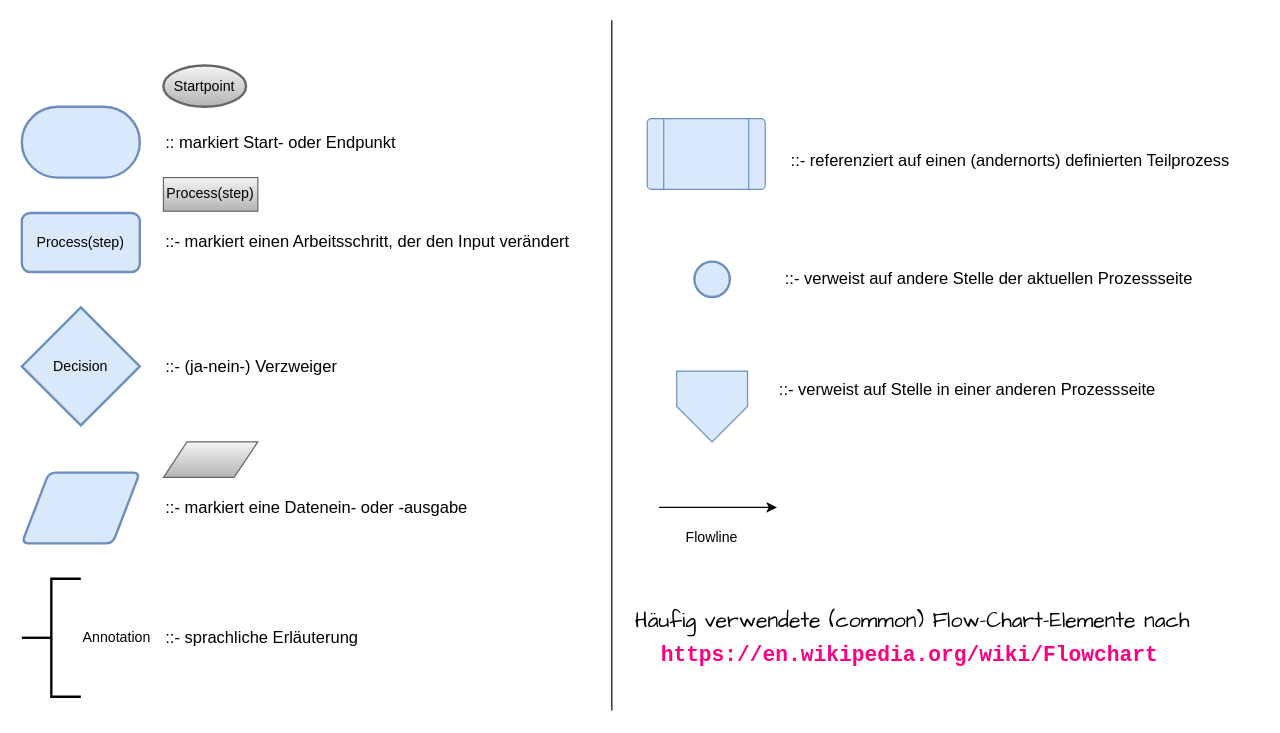
This 1280x733 diagram has some shape labels left out. The centre of each missing label's shape, as x and y in pixels:
"Data (IO)" belongs at point (80, 507).
"SUB-Process" belongs at point (705, 153).
"TERMINATOR" belongs at point (80, 141).
